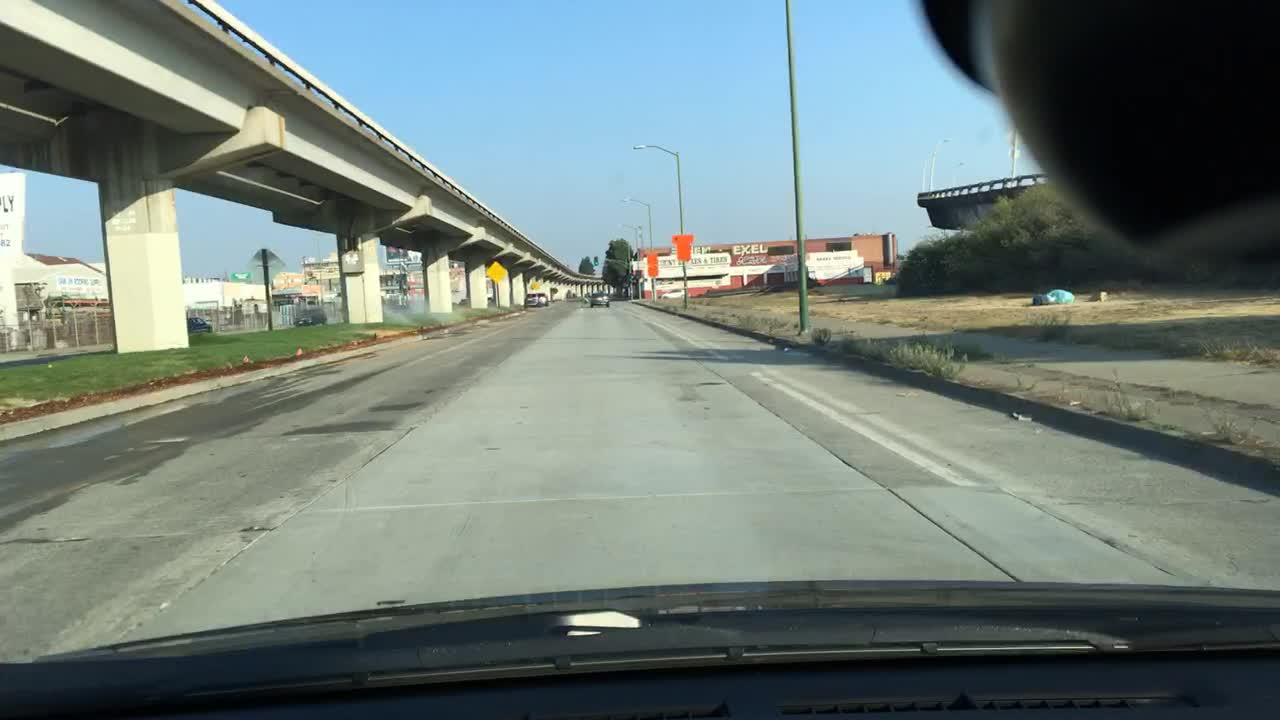car: (289, 308, 329, 327), (523, 291, 550, 308), (185, 317, 215, 331), (587, 292, 612, 307)
traffic light: (593, 252, 600, 266)
traffic sign: (670, 232, 694, 262), (14, 283, 39, 311), (483, 257, 509, 282), (647, 252, 658, 276)
